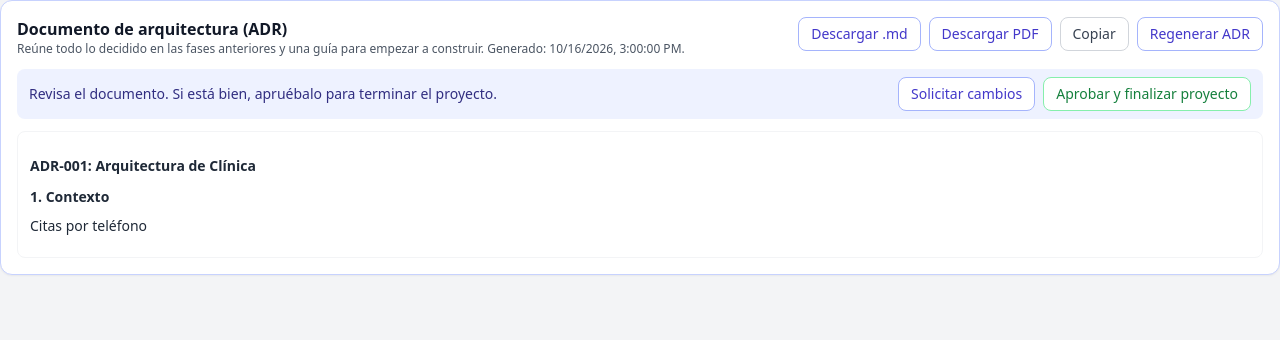
it: AdrPanel › avisa si el navegador bloquea la ventana del PDF
Click the button with test id "adr-download-pdf" at (990, 34), box [929, 17, 1052, 51]
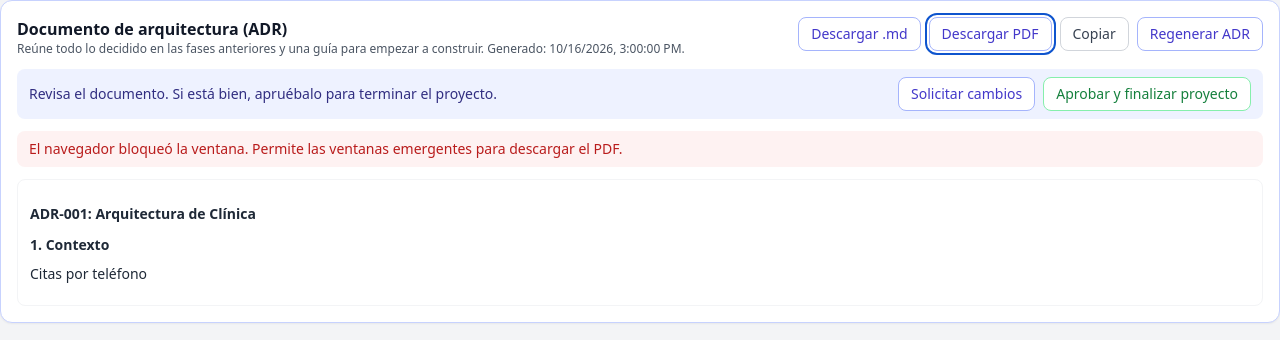
Check: the message with test id "adr-error" shows "ventanas emergentes", box [29, 139, 622, 158]
